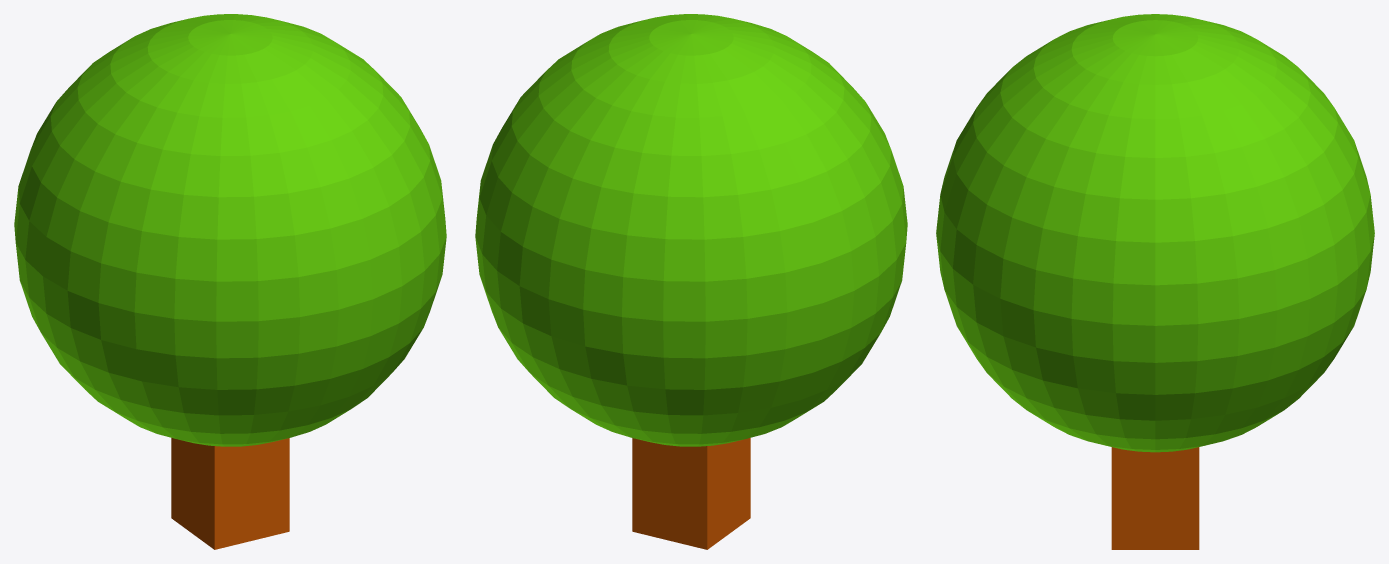
The model's file is BushPlaceholder1.dae.
3 views of the same model, side by side, from view 1: azimuth 30°, elevation 25°; view 2: azimuth 150°, elevation 25°; view 3: azimuth 270°, elevation 25° (orthographic).
Parts seen in each view (by area): view 1: BushPlaceHolderA, Cube; view 2: BushPlaceHolderA, Cube; view 3: BushPlaceHolderA, Cube.
Boxes of the visible parts, x1,y1,x2,y2 form: BushPlaceHolderA: [14, 14, 446, 446]; Cube: [171, 438, 289, 549]; BushPlaceHolderA: [475, 14, 907, 446]; Cube: [632, 438, 750, 549]; BushPlaceHolderA: [936, 14, 1374, 452]; Cube: [1111, 447, 1199, 549].
Bounding box in the file's own units: 1 × 1 × 1.25.
